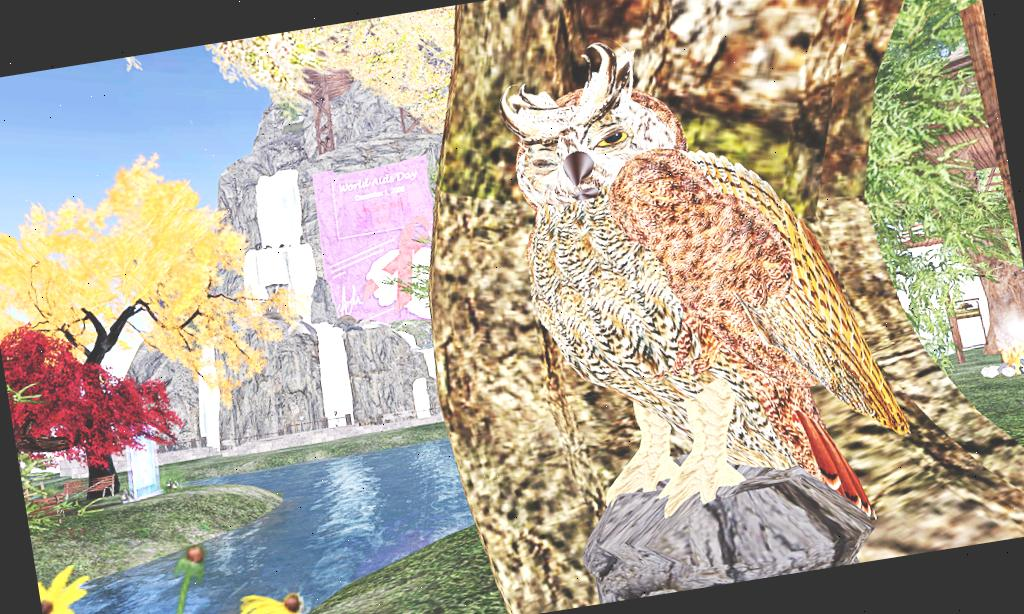Owl: (488, 8, 923, 570)
